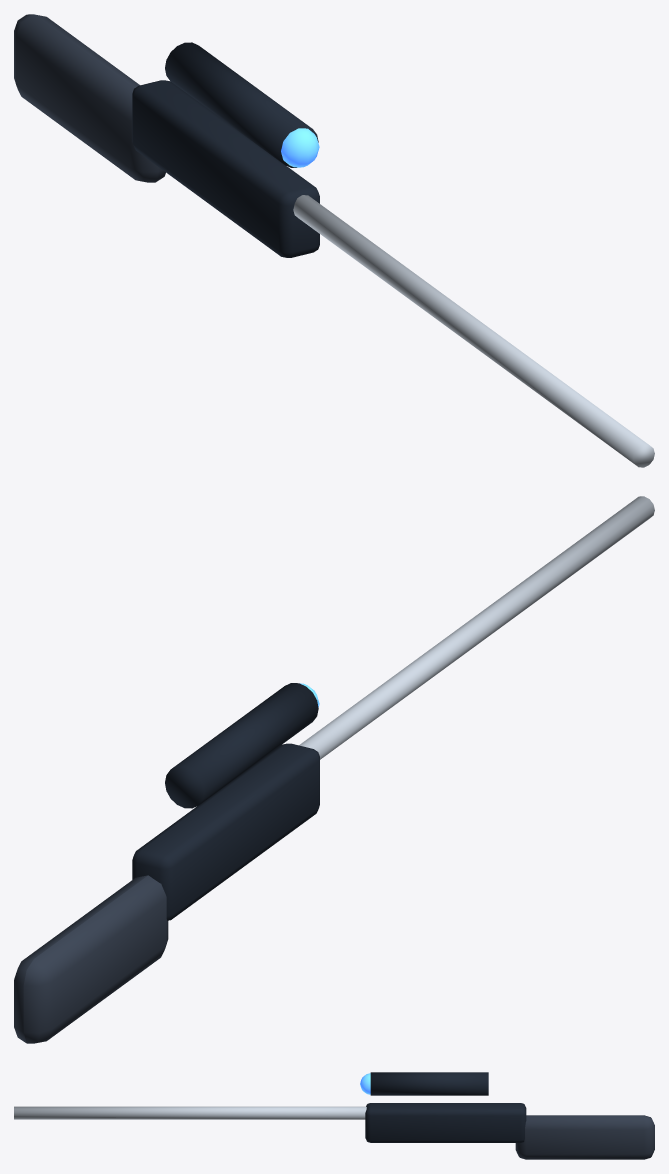
File: sniper.glb
The picture shows the model from 3 angles, top to bottom: view 1: azimuth 30°, elevation 25°; view 2: azimuth 150°, elevation 25°; view 3: azimuth 270°, elevation 25°; orthographic projection. The views are drawn at different scales.
Visible parts, largest first — view 1: Body, Stock, Barrel, Scope, Lens; view 2: Body, Stock, Barrel, Scope; view 3: Body, Stock, Barrel, Scope, Lens.
Part boxes in pixels (x1,y1,x2,y2): Body: (132, 80, 319, 257); Stock: (14, 14, 165, 182); Barrel: (293, 195, 654, 467); Scope: (165, 42, 318, 167); Lens: (281, 128, 319, 167); Body: (132, 743, 319, 920); Stock: (14, 875, 168, 1043); Barrel: (299, 496, 654, 759); Scope: (165, 683, 318, 808); Body: (365, 1103, 526, 1142); Stock: (515, 1115, 654, 1159); Barrel: (14, 1106, 366, 1119); Scope: (370, 1072, 488, 1095); Lens: (360, 1073, 370, 1094).
Bounding box in the file's own units: 0.045 × 0.177 × 1.19.
